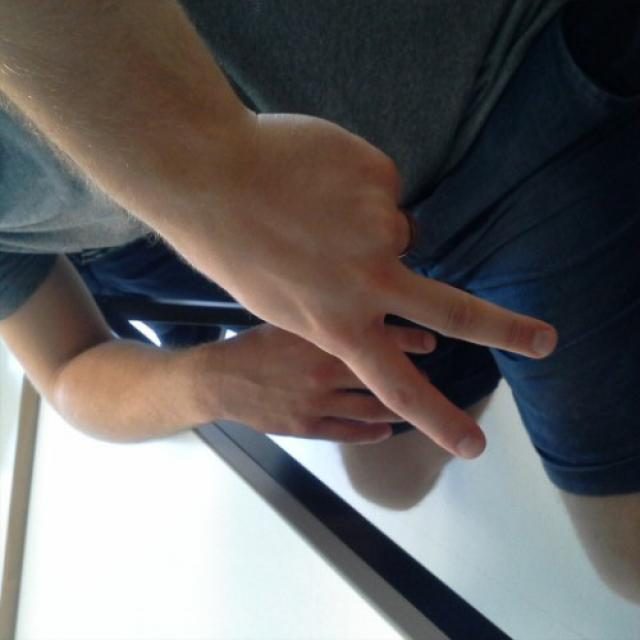scissors: (270, 119, 554, 462)
